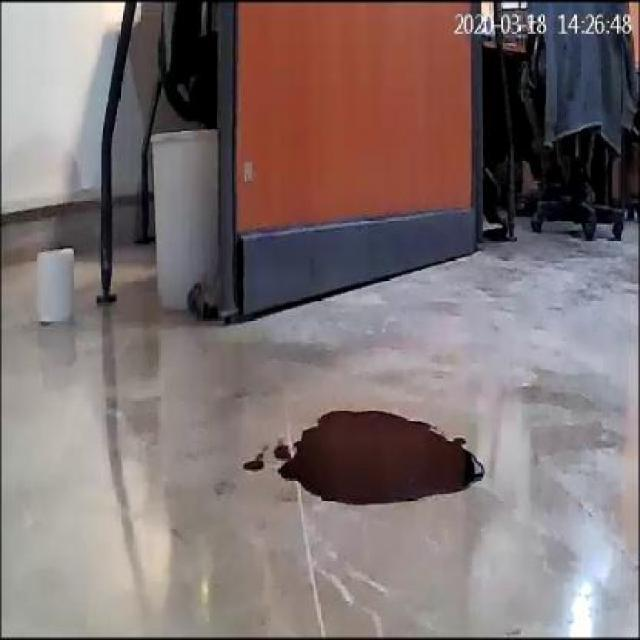spill: (271, 410, 487, 507)
